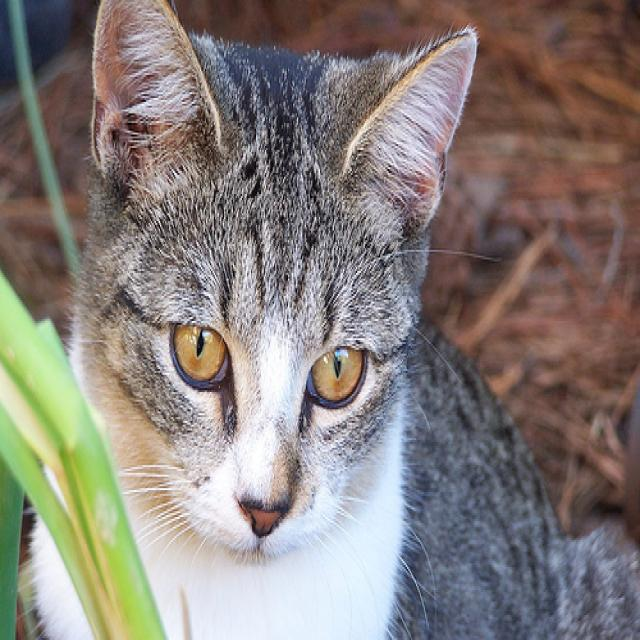cat: (17, 1, 639, 639)
